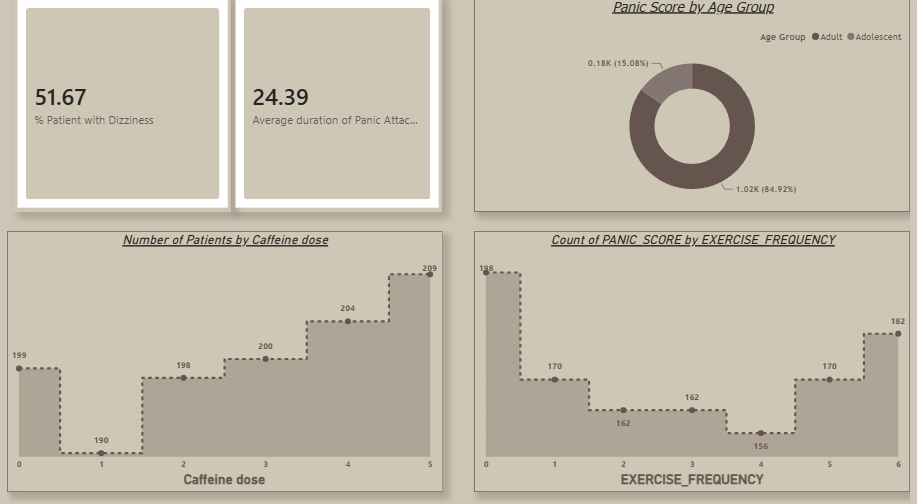

Layout of this report page (visuals, bound fields, positions):
{"tool":"powerbi","page":{"name":"KPI","canvas":[1280,720],"ordinal":4},"visuals":[{"type":"cardVisual","fields":{"Data":["PANIC_ATTACK_DATA.% Patient with Dizziness"]},"box":[10.1,0,308.5,305.6],"z":0},{"type":"cardVisual","fields":{"Data":["Avg(PANIC_ATTACK_DATA.DURATION_MINUTES)"]},"box":[318.6,0,298.4,305.6],"z":1000},{"type":"lineChart","fields":{"Category":["PANIC_ATTACK_DATA.CAFFEINE_INTAKE"],"Y":["CountNonNull(PANIC_ATTACK_DATA.ID)"]},"box":[0,333.3,616.7,370],"z":2000},{"type":"lineChart","fields":{"Y":["CountNonNull(PANIC_ATTACK_DATA.PANIC_SCORE)"],"Category":["PANIC_ATTACK_DATA.EXERCISE_FREQUENCY"]},"box":[661.7,333.3,618.3,370],"z":3000},{"type":"donutChart","fields":{"Category":["PANIC_ATTACK_DATA.Age Group IF"],"Y":["CountNonNull(PANIC_ATTACK_DATA.PANIC_SCORE)"]},"box":[661.6,0,618.4,305.6],"z":4000}]}

Visuals, with their boxes in screenshot pixels (x1, y1, x2, y2), scaled from the page's 1280x720 canvas onto the 917x504 screenshot:
cardVisual - PANIC_ATTACK_DATA.% Patient with Dizziness: [x1=7, y1=0, x2=228, y2=214]
cardVisual - Avg(PANIC_ATTACK_DATA.DURATION_MINUTES): [x1=228, y1=0, x2=442, y2=214]
lineChart - PANIC_ATTACK_DATA.CAFFEINE_INTAKE x CountNonNull(PANIC_ATTACK_DATA.ID): [x1=0, y1=233, x2=442, y2=492]
lineChart - CountNonNull(PANIC_ATTACK_DATA.PANIC_SCORE) x PANIC_ATTACK_DATA.EXERCISE_FREQUENCY: [x1=474, y1=233, x2=916, y2=492]
donutChart - PANIC_ATTACK_DATA.Age Group IF x CountNonNull(PANIC_ATTACK_DATA.PANIC_SCORE): [x1=474, y1=0, x2=916, y2=214]
